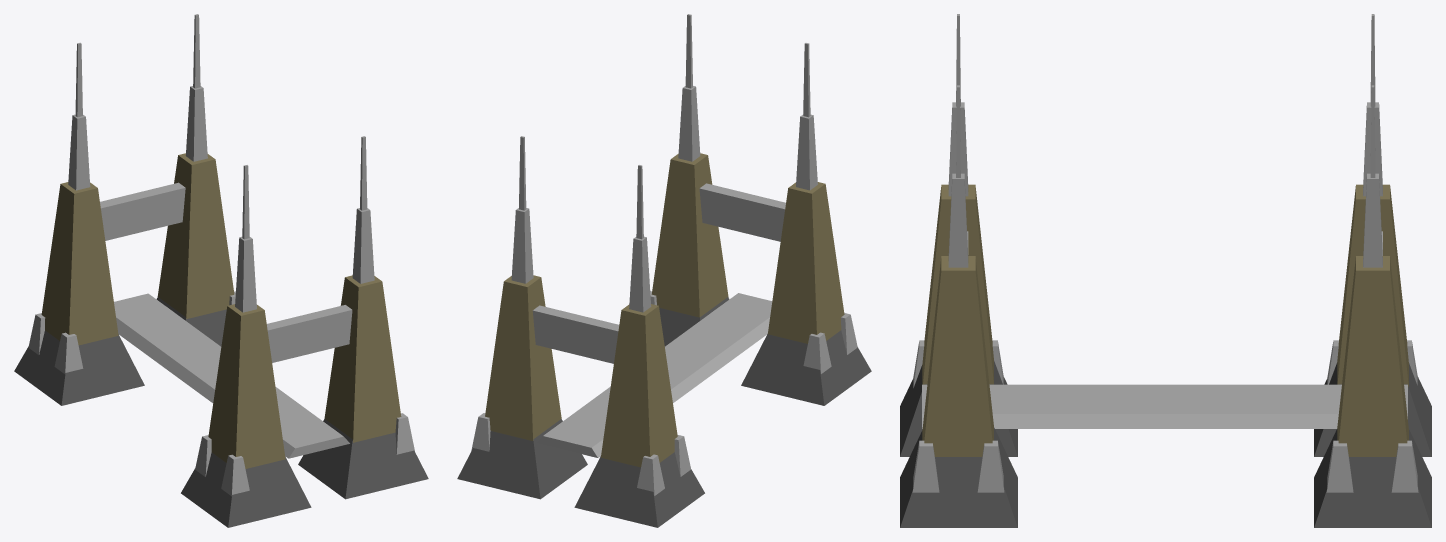
Rendered from Bridges1.fbx.
3 renders of one model, left to right at view 1: azimuth 30°, elevation 25°; view 2: azimuth 150°, elevation 25°; view 3: azimuth 270°, elevation 25°, orthographic. The views are drawn at different scales.
Visible parts, largest first — view 1: pCube185, pCube189, pCube186, pCube188, pCube191, pCube199, pCube201, pCube200, pCube190, pCube187, pCube208, pCube206 (+10 smaller); view 2: pCube189, pCube185, pCube188, pCube186, pCube191, pCube201, pCube199, pCube198, pCube187, pCube190, pCube206, pCube208 (+10 smaller); view 3: pCube191, pCube186, pCube188, pCube200, pCube198, pCube185, pCube189, pCube199, pCube201, pCube208, pCube206, pCube195 (+5 smaller).
Boxes of the visible parts, bbox=[...] form: pCube185: bbox=[208, 304, 285, 468]; pCube189: bbox=[41, 182, 118, 345]; pCube186: bbox=[324, 275, 401, 442]; pCube188: bbox=[157, 153, 234, 318]; pCube191: bbox=[114, 293, 349, 458]; pCube199: bbox=[14, 330, 144, 405]; pCube201: bbox=[181, 452, 311, 527]; pCube200: bbox=[298, 419, 428, 499]; pCube190: bbox=[100, 182, 185, 240]; pCube187: bbox=[266, 305, 352, 362]; pCube208: bbox=[352, 208, 374, 283]; pCube206: bbox=[185, 86, 207, 161]; pCube189: bbox=[601, 304, 677, 467]; pCube185: bbox=[768, 182, 844, 343]; pCube188: bbox=[485, 275, 561, 440]; pCube186: bbox=[651, 153, 728, 317]; pCube191: bbox=[536, 293, 772, 457]; pCube201: bbox=[741, 330, 871, 405]; pCube199: bbox=[574, 452, 704, 527]; pCube198: bbox=[457, 419, 587, 499]; pCube187: bbox=[699, 183, 785, 241]; pCube190: bbox=[532, 305, 619, 363]; pCube206: bbox=[511, 208, 533, 283]; pCube208: bbox=[678, 86, 700, 161]; pCube191: bbox=[922, 384, 1407, 428]; pCube186: bbox=[922, 256, 993, 456]; pCube188: bbox=[1337, 256, 1408, 456]; pCube200: bbox=[900, 427, 1017, 527]; pCube198: bbox=[1314, 429, 1431, 527]; pCube185: bbox=[922, 184, 993, 384]; pCube189: bbox=[1337, 184, 1408, 387]; pCube199: bbox=[1314, 362, 1431, 456]; pCube201: bbox=[900, 361, 1017, 456]; pCube208: bbox=[948, 173, 968, 267]; pCube206: bbox=[1363, 173, 1382, 267]; pCube195: bbox=[1326, 440, 1353, 492].
Size of the model in its own units: 8.58 by 13.68 by 15.84.
